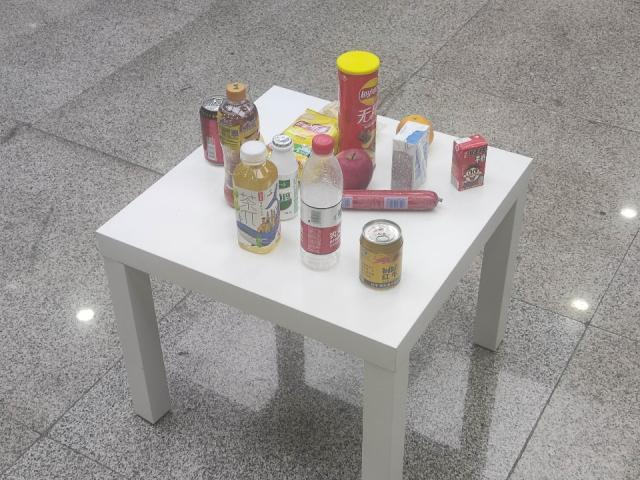Canned_drinks: (359, 220, 402, 289), (200, 96, 225, 164)
bottle: (300, 134, 342, 270), (232, 140, 280, 254), (218, 82, 260, 205)
cylinder: (336, 51, 380, 166)
drink_box: (391, 115, 434, 190), (451, 135, 488, 191)
